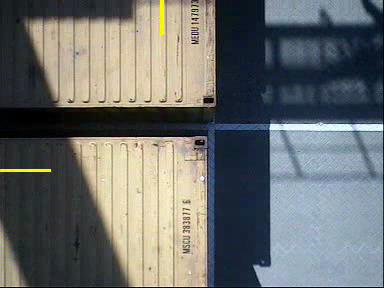groundmarker_2: (121, 7, 239, 62)
